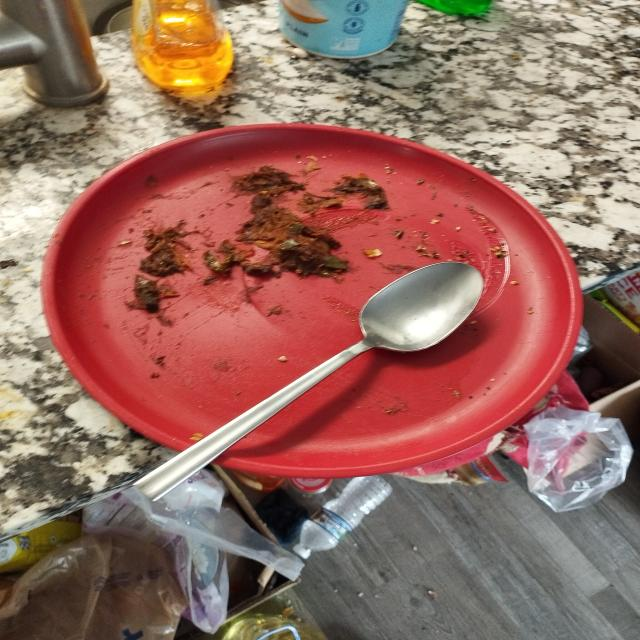Spoon: (111, 256, 505, 508)
